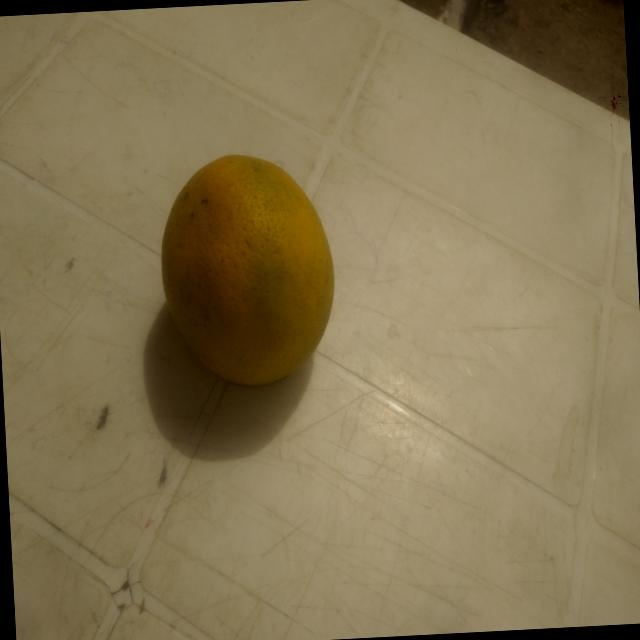agrume: (111, 116, 353, 451)
